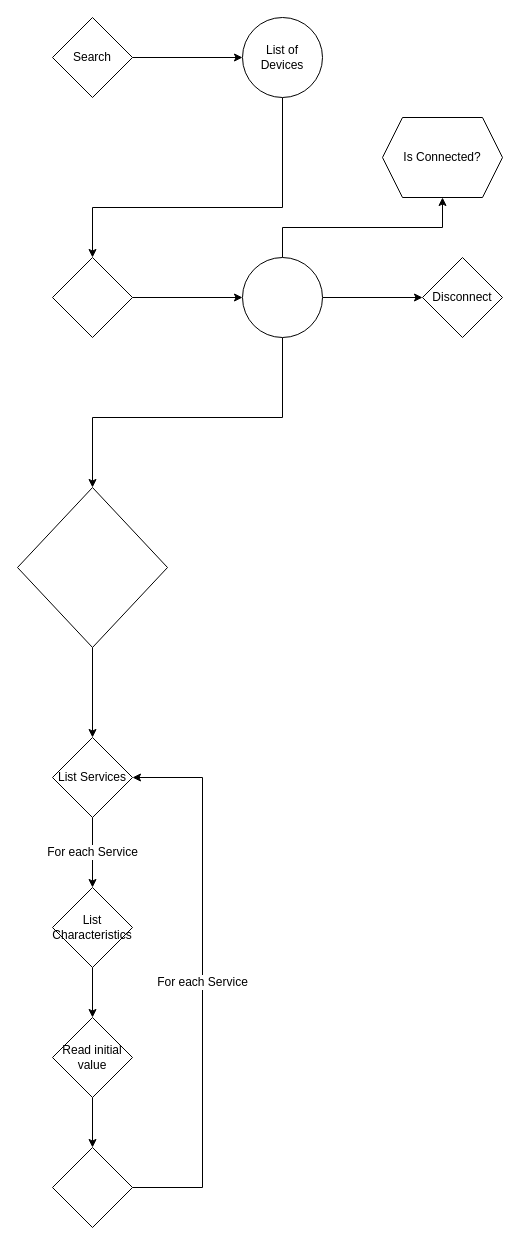
The diagram is 520 pixels wide and 1245 high, and some of its shapes have lost their labels. The shapes that lost their labels are listed below. From the top down, each one's box as (x1, y1, x2, y2) in pixels, then its label:
(52, 256, 132, 338): Connect
(242, 256, 322, 338): Save Devive
(16, 486, 168, 648): Discover Services and Characteristics
(52, 1146, 132, 1228): Subscribe
